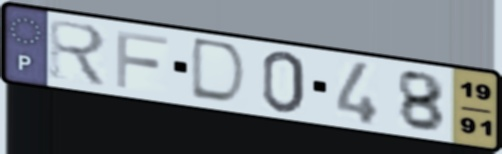0: (258, 49, 308, 116)
4: (333, 59, 382, 128)
8: (395, 69, 448, 133)
D: (186, 35, 250, 108)
F: (113, 27, 172, 90)
R: (46, 16, 111, 91)
